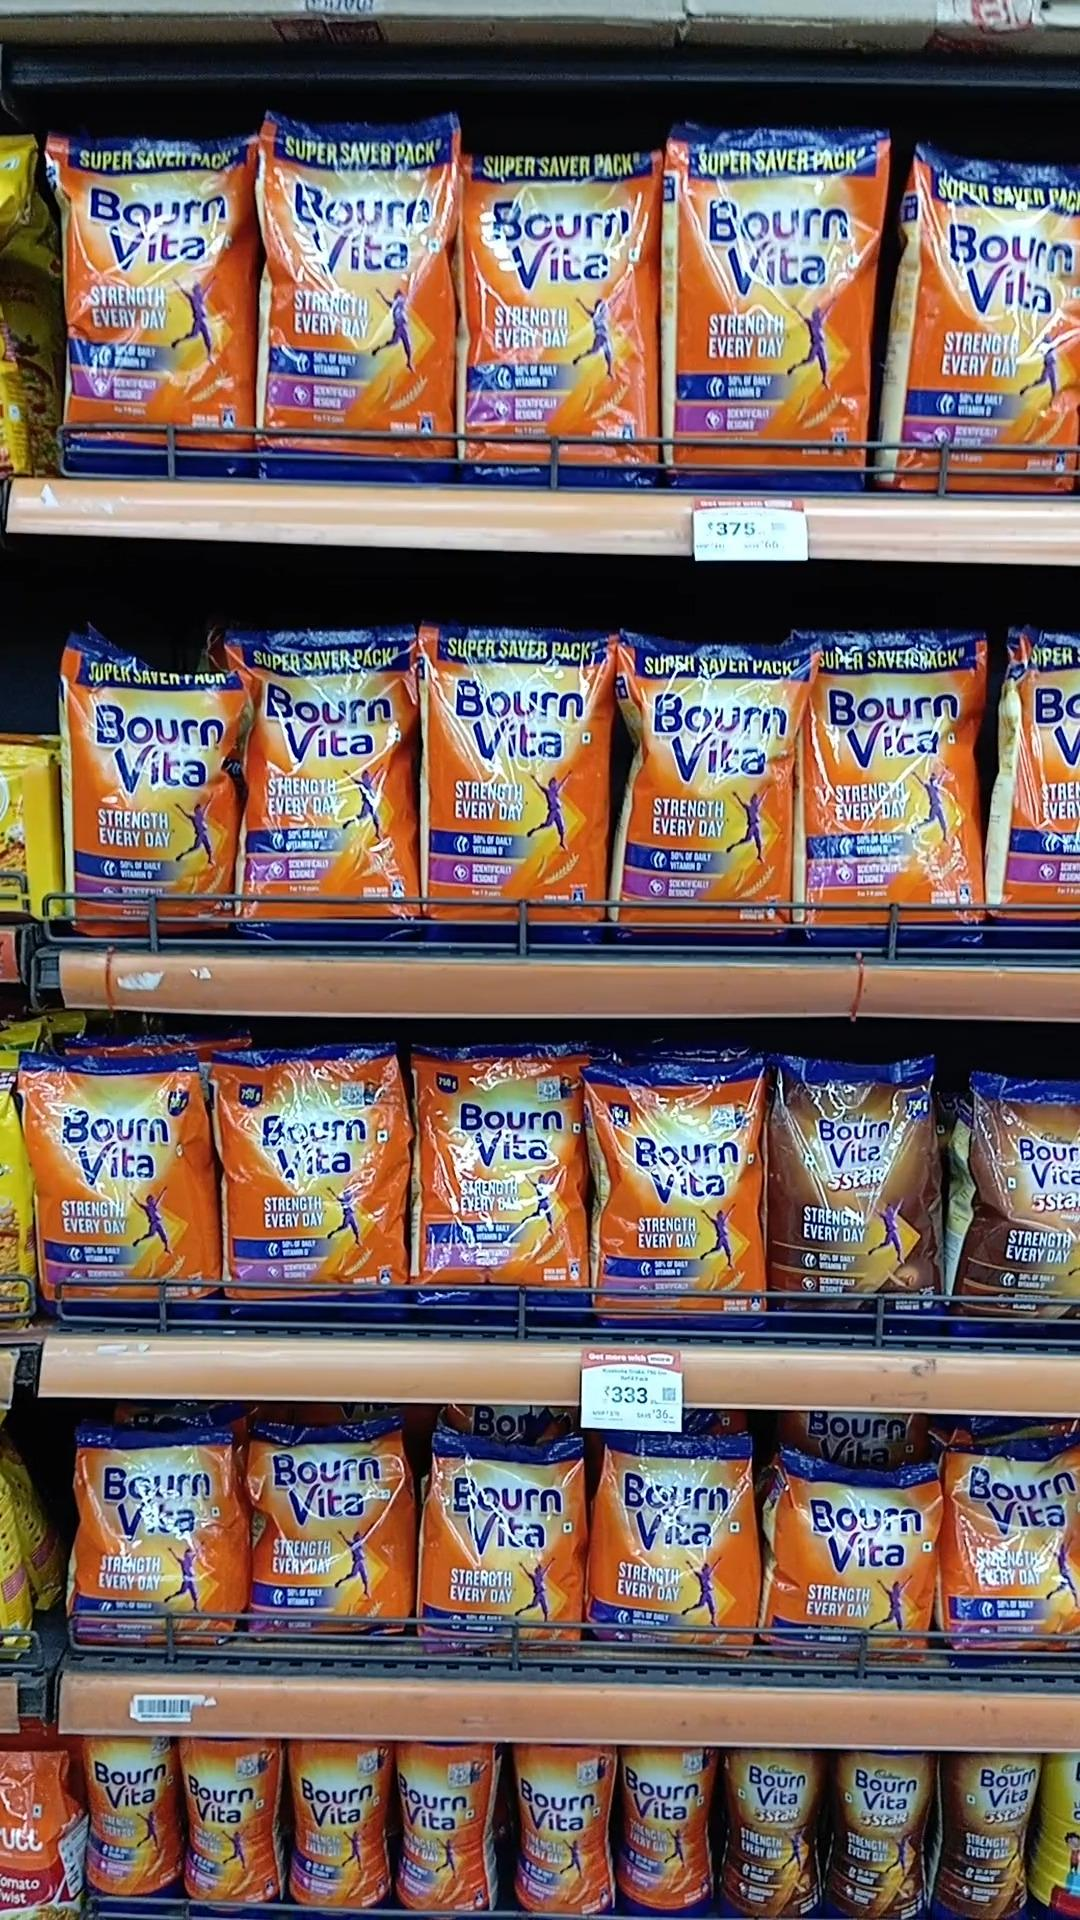BOURN_VITA_1_KG_POUCH: (665, 120, 870, 489), (261, 115, 451, 487), (460, 157, 654, 497), (59, 141, 236, 464), (920, 149, 1080, 502), (425, 633, 601, 952), (244, 630, 413, 961), (61, 647, 239, 945), (808, 637, 975, 953), (622, 633, 783, 944), (964, 634, 1080, 948)
BOURN_VITA_500_G_JAR: (286, 1738, 380, 1920), (393, 1739, 485, 1920), (510, 1747, 605, 1920), (182, 1731, 266, 1920), (82, 1727, 167, 1909), (618, 1747, 703, 1920)
BOURN_VITA_500_G_POUCH: (248, 1424, 407, 1646), (934, 1440, 1080, 1672), (770, 1466, 930, 1677), (595, 1440, 744, 1652), (430, 1443, 578, 1651), (84, 1432, 235, 1631)
BOURN_VITA_750_G_POUCH: (417, 1059, 578, 1320), (240, 1076, 410, 1317), (579, 1069, 741, 1320), (57, 1065, 220, 1313)
BOURN_VITA_CHAMPS_500_G_JAR: (1006, 1701, 1075, 1853)
BOURN_VITA_FIVE_STAR_MAGIC_500_G_JAR: (729, 1750, 822, 1920), (833, 1749, 924, 1920), (955, 1754, 1033, 1919)
BOURN_VITA_FIVE_STAR_MAGIC_750_G_POUCH: (754, 1067, 905, 1315), (932, 1076, 1067, 1316)
